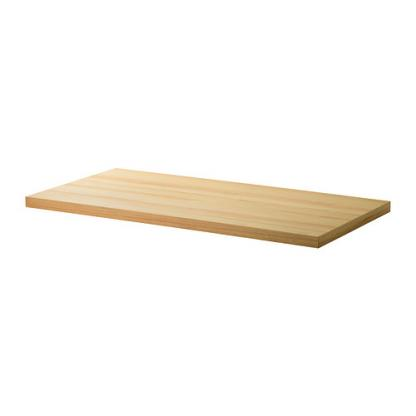Table: (22, 161, 396, 255)
